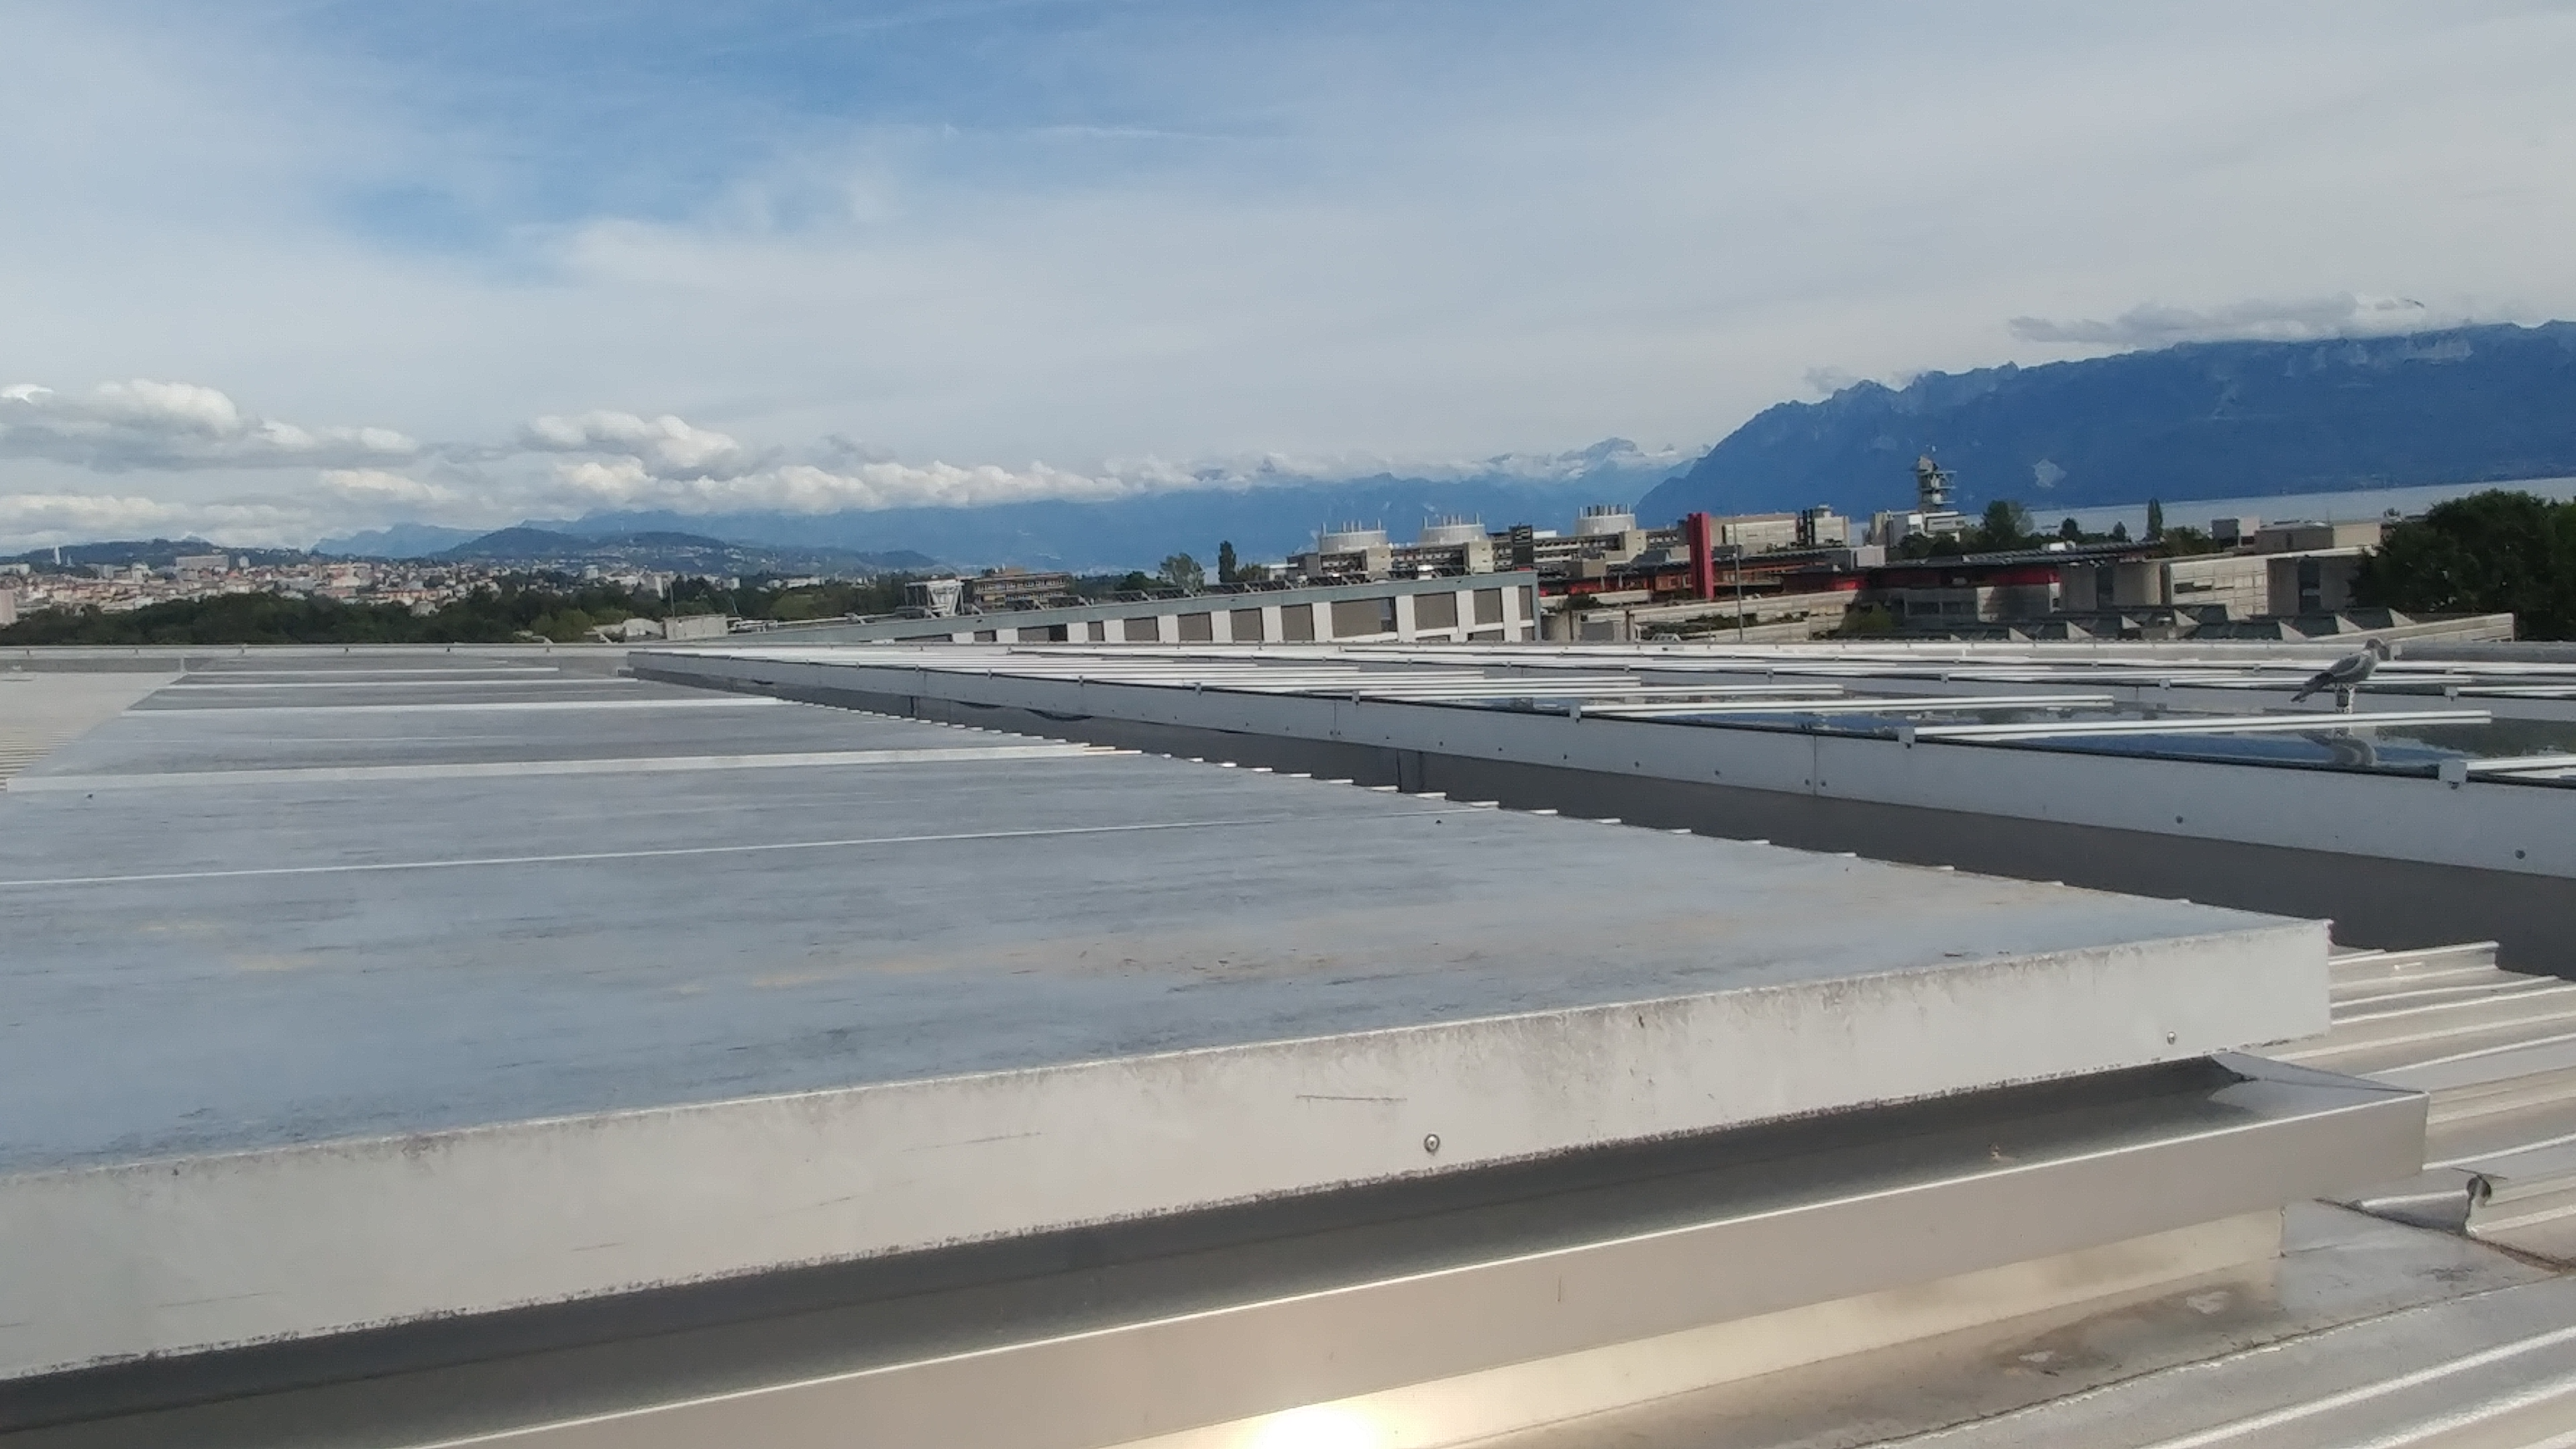Pigeon: (2296, 639, 2381, 718)
